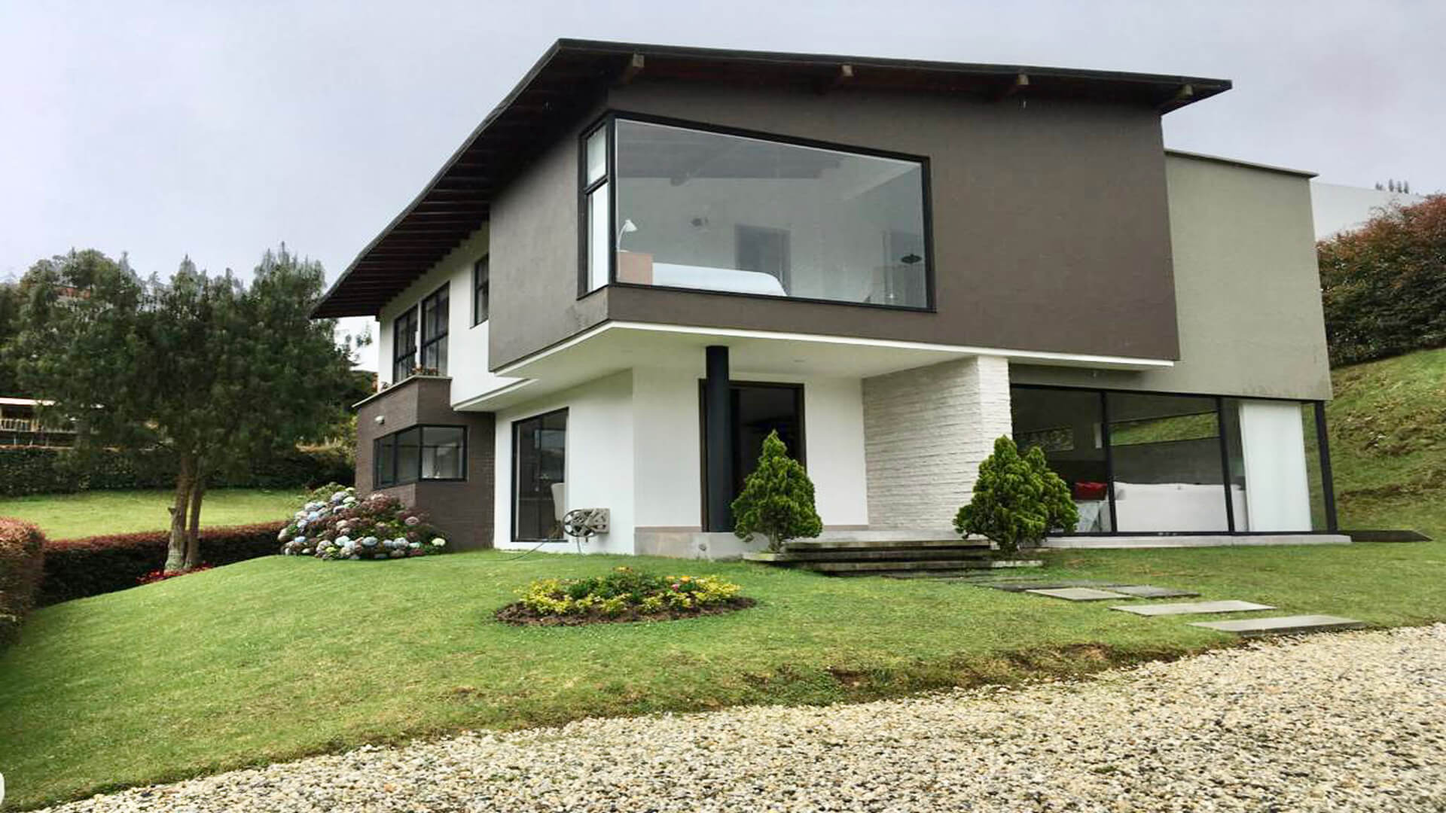House: (288, 28, 1338, 555)
